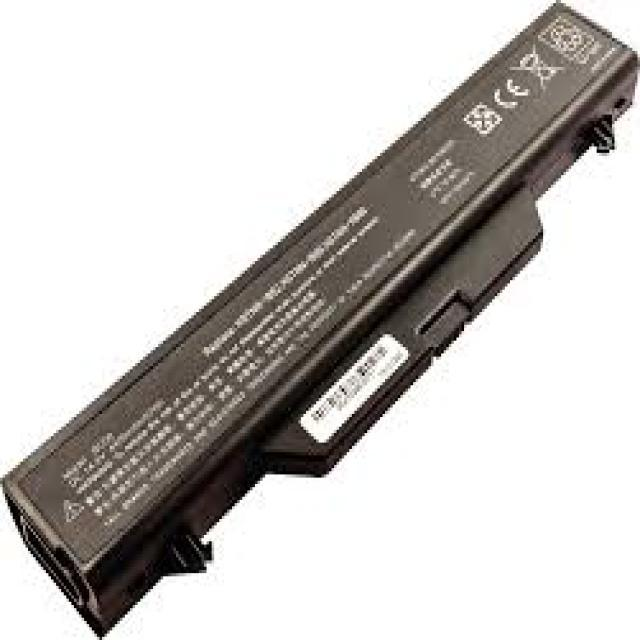Battery: (1, 0, 640, 636)
